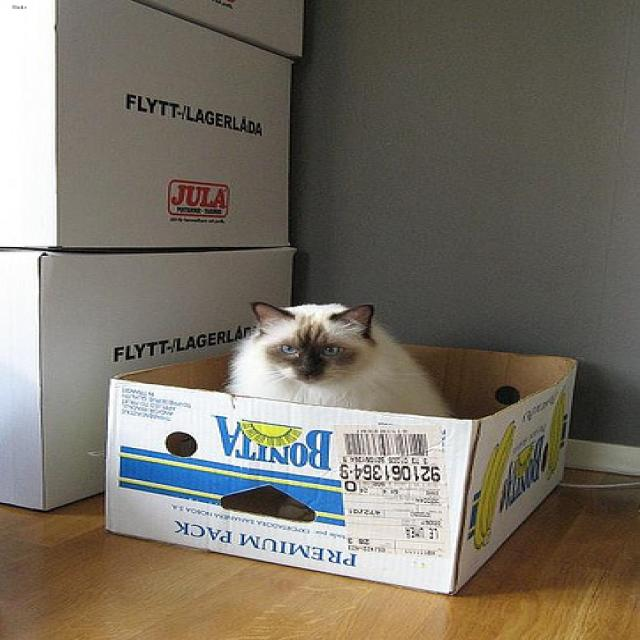cat: (250, 300, 372, 384)
